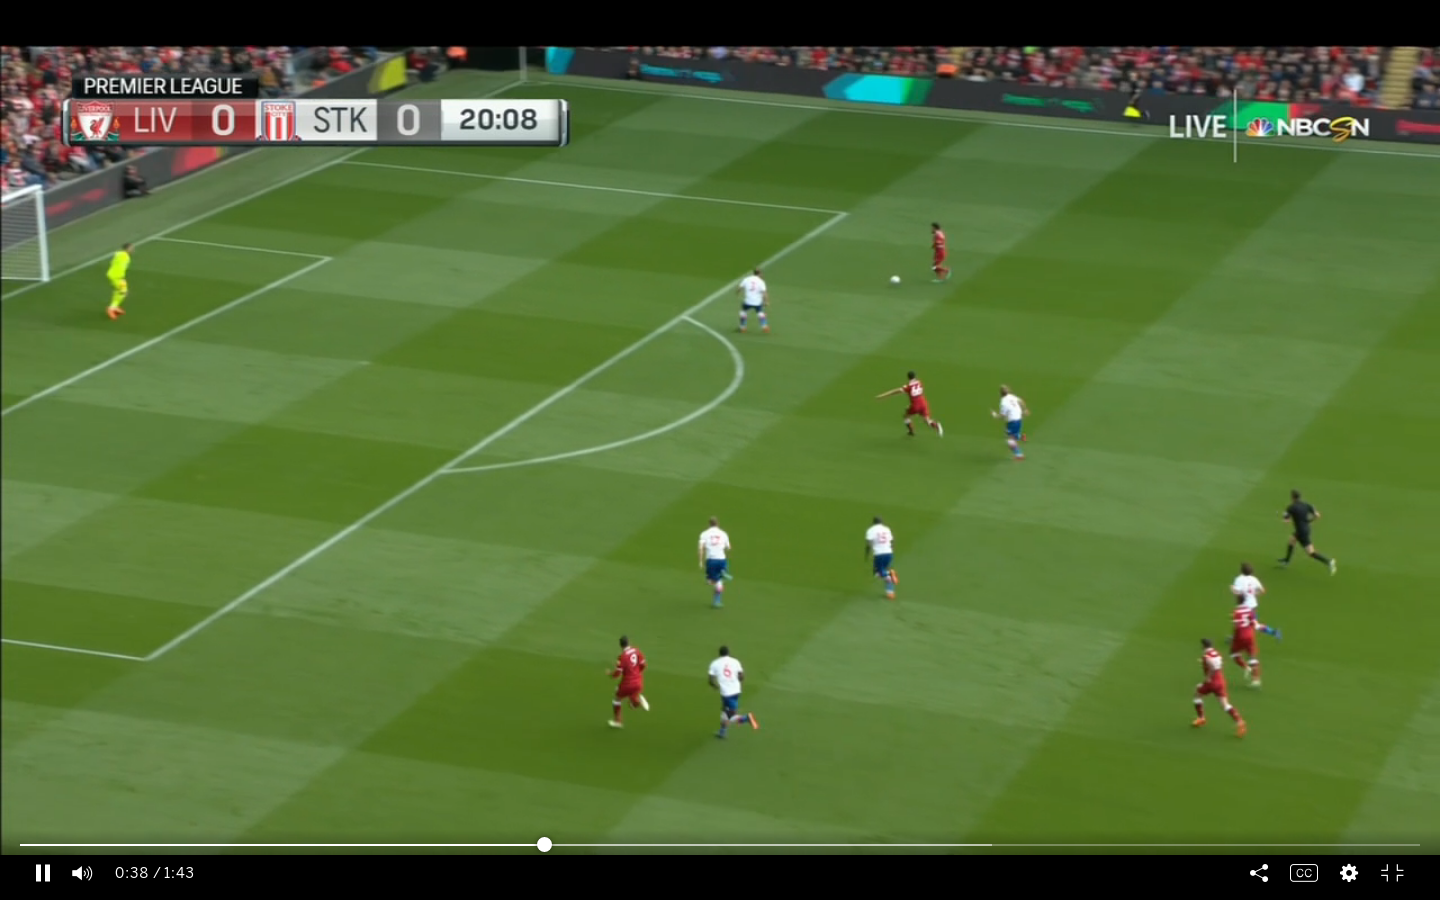referee: (1275, 486, 1339, 583)
soccer player: (704, 642, 761, 742), (604, 632, 658, 731), (1193, 634, 1241, 742), (879, 371, 945, 446), (101, 231, 145, 336), (696, 509, 738, 614), (1225, 606, 1275, 686), (862, 514, 904, 600), (987, 382, 1033, 457), (736, 269, 770, 334), (1230, 562, 1265, 614), (927, 219, 952, 288)
soccerball: (887, 268, 904, 289)
